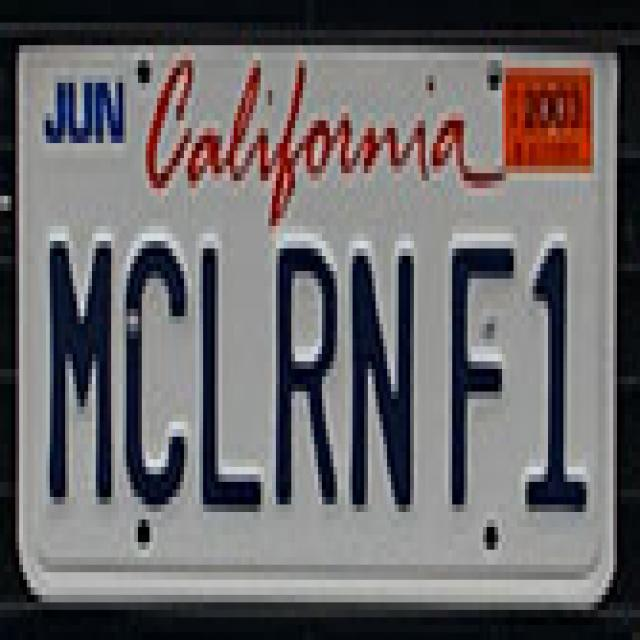1: (527, 224, 601, 530)
C: (122, 237, 191, 512)
F: (446, 225, 516, 520)
L: (196, 232, 268, 522)
M: (42, 226, 118, 508)
N: (346, 235, 420, 518)
R: (274, 233, 342, 516)
